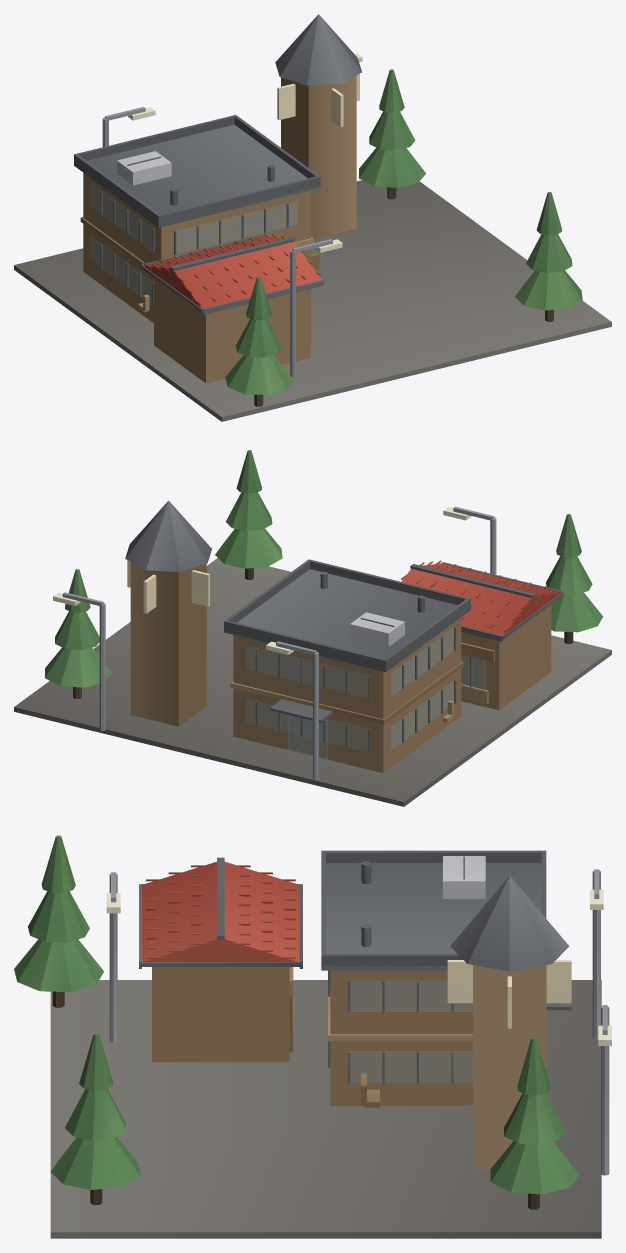
The model's file is Civic_P1.fbx.
3 renders of one model, top to bottom at view 1: azimuth 30°, elevation 25°; view 2: azimuth 150°, elevation 25°; view 3: azimuth 270°, elevation 25°, orthographic. The views are drawn at different scales.
Visible parts, largest first — view 1: Civic.Plaza, Civic.Hall, Civic.Shop0, Civic.Tower, Civic.Tree2, Civic.Tree0, Civic.Tree1, Civic.Lamp0, Civic.Lamp2; view 2: Civic.Hall, Civic.Plaza, Civic.Tower, Civic.Shop0, Civic.Tree1, Civic.Tree0, Civic.Tree2, Civic.Lamp1, Civic.Lamp2, Civic.Lamp0; view 3: Civic.Plaza, Civic.Hall, Civic.Shop0, Civic.Tower, Civic.Tree2, Civic.Tree0, Civic.Tree1, Civic.Lamp0, Civic.Lamp1, Civic.Lamp2.
Part boxes in pixels (x1=…): Civic.Plaza: x1=14, y1=180, x2=611, y2=421; Civic.Hall: x1=74, y1=115, x2=320, y2=322; Civic.Shop0: x1=141, y1=233, x2=323, y2=383; Civic.Tower: x1=275, y1=14, x2=361, y2=238; Civic.Tree2: x1=225, y1=276, x2=293, y2=406; Civic.Tree0: x1=359, y1=69, x2=425, y2=199; Civic.Tree1: x1=515, y1=192, x2=582, y2=321; Civic.Lamp0: x1=290, y1=239, x2=342, y2=377; Civic.Lamp2: x1=102, y1=107, x2=155, y2=146; Civic.Hall: x1=224, y1=559, x2=470, y2=773; Civic.Plaza: x1=14, y1=558, x2=611, y2=806; Civic.Tower: x1=125, y1=500, x2=211, y2=726; Civic.Shop0: x1=401, y1=560, x2=563, y2=710; Civic.Tree1: x1=215, y1=450, x2=282, y2=579; Civic.Tree0: x1=45, y1=569, x2=111, y2=698; Civic.Tree2: x1=546, y1=514, x2=603, y2=643; Civic.Lamp1: x1=53, y1=592, x2=105, y2=730; Civic.Lamp2: x1=266, y1=641, x2=318, y2=779; Civic.Lamp0: x1=443, y1=506, x2=496, y2=574; Civic.Plaza: x1=50, y1=980, x2=601, y2=1238; Civic.Hall: x1=321, y1=850, x2=571, y2=1105; Civic.Shop0: x1=139, y1=857, x2=302, y2=1062; Civic.Tower: x1=447, y1=876, x2=571, y2=1169; Civic.Tree2: x1=14, y1=835, x2=103, y2=1007; Civic.Tree0: x1=490, y1=1037, x2=579, y2=1209; Civic.Tree1: x1=51, y1=1033, x2=140, y2=1205; Civic.Lamp0: x1=106, y1=872, x2=120, y2=1042; Civic.Lamp1: x1=598, y1=1005, x2=611, y2=1175; Civic.Lamp2: x1=590, y1=869, x2=603, y2=1039.
Size of the model in its own units: 2600 by 1371 by 2604.
